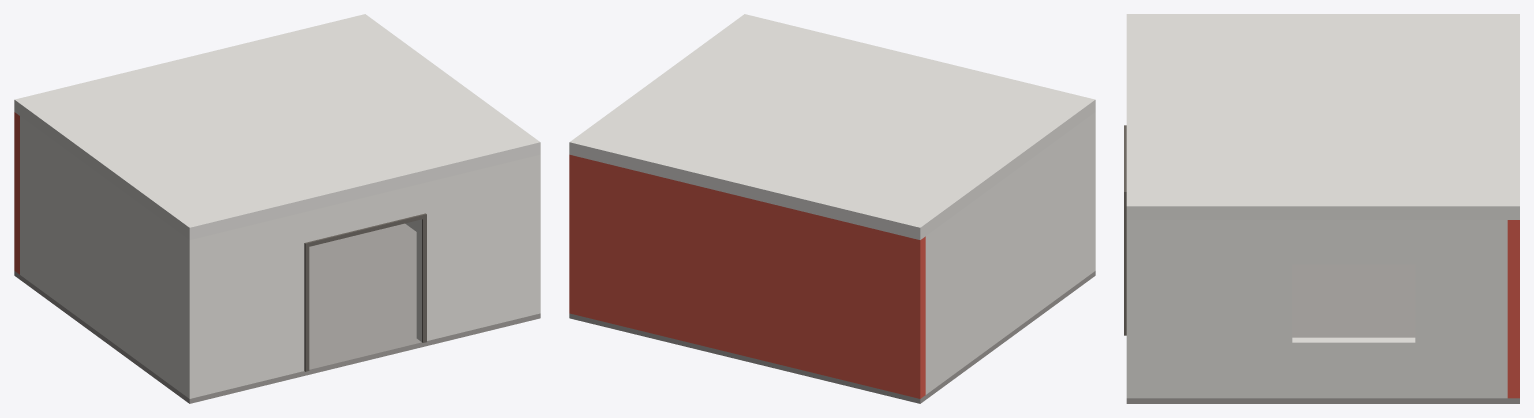
Rendered from pavilion.glb.
3 views of the same model, side by side, from view 1: azimuth 30°, elevation 25°; view 2: azimuth 150°, elevation 25°; view 3: azimuth 270°, elevation 25° (orthographic). The views are drawn at different scales.
Parts seen in each view (by area): view 1: ceiling, west_wall, front_wall_b, front_wall_a, floor, front_wall_head, east_wall_b, back_wall, door_trim_l, door_trim_t, door_trim_r; view 2: ceiling, back_wall, west_wall, floor; view 3: ceiling, east_wall_b, east_wall_a, floor, east_wall_sill, east_wall_head, back_wall, door_trim_r.
Part boxes in pixels (<box>): ceiling: <box>14,14,540,239</box>; west_wall: <box>20,116,198,398</box>; front_wall_b: <box>416,157,530,341</box>; front_wall_a: <box>199,211,308,396</box>; floor: <box>14,223,540,403</box>; front_wall_head: <box>308,183,421,241</box>; east_wall_b: <box>531,154,540,315</box>; back_wall: <box>14,112,19,274</box>; door_trim_l: <box>304,242,309,371</box>; door_trim_t: <box>304,213,426,247</box>; door_trim_r: <box>422,213,426,342</box>; ceiling: <box>569,14,1095,239</box>; back_wall: <box>569,154,925,398</box>; west_wall: <box>925,112,1095,394</box>; floor: <box>569,271,1095,403</box>; ceiling: <box>1126,14,1519,219</box>; east_wall_b: <box>1126,220,1292,398</box>; east_wall_a: <box>1415,220,1507,398</box>; floor: <box>1126,264,1519,403</box>; east_wall_sill: <box>1292,337,1415,398</box>; east_wall_head: <box>1292,220,1415,264</box>; back_wall: <box>1507,220,1519,398</box>; door_trim_r: <box>1124,191,1126,335</box>.
Bounding box in the file's own units: 7.4 × 3.55 × 6.44.
